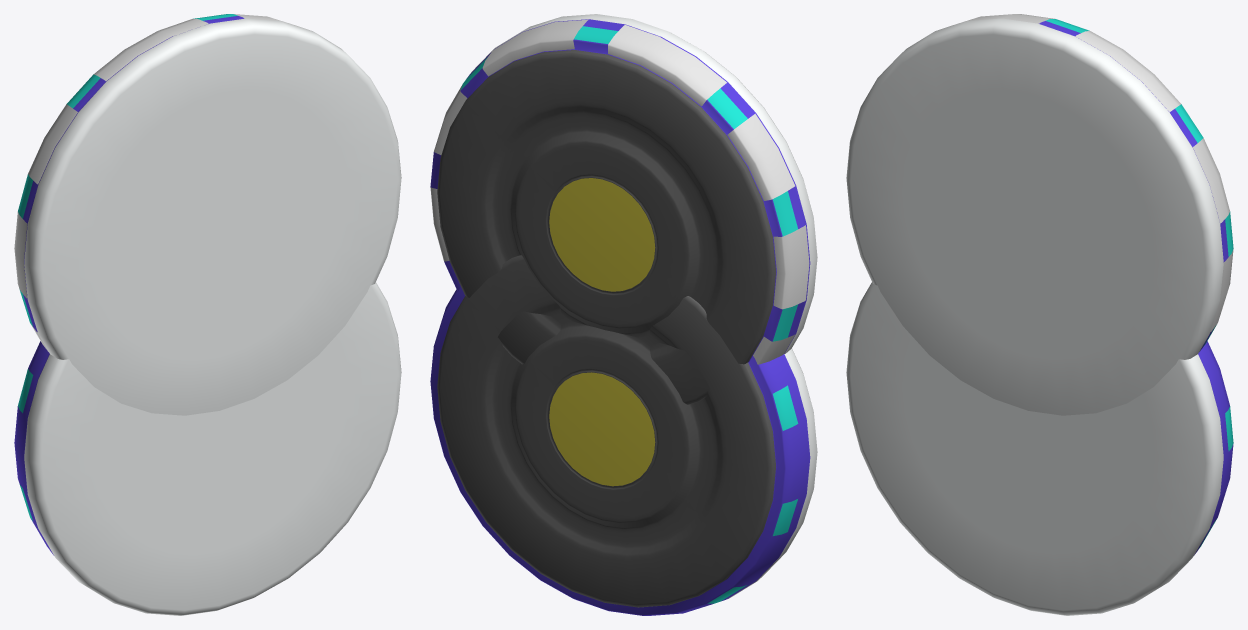
File: separate 1.fbx
3 views of the same model, side by side, from view 1: azimuth 30°, elevation 25°; view 2: azimuth 150°, elevation 25°; view 3: azimuth 330°, elevation 25° (orthographic).
Visible parts, largest first — view 1: Cylinder.001, Cylinder, Cylinder.007, Cylinder.006, Cylinder.005; view 2: Cylinder, Cylinder.001, Cylinder.007, Cylinder.006, Cylinder.005, Cylinder.008, Cylinder.004, Cylinder.009; view 3: Cylinder.001, Cylinder, Cylinder.008, Cylinder.009.
Part boxes in pixels (left/top/right/bottom): Cylinder.001: left=18, top=14, right=401, bottom=415; Cylinder: left=14, top=282, right=401, bottom=615; Cylinder.007: left=93, top=19, right=208, bottom=80; Cylinder.006: left=28, top=104, right=77, bottom=184; Cylinder.005: left=14, top=211, right=27, bottom=298; Cylinder: left=430, top=255, right=817, bottom=615; Cylinder.001: left=430, top=14, right=817, bottom=404; Cylinder.007: left=608, top=25, right=726, bottom=106; Cylinder.006: left=727, top=113, right=795, bottom=200; Cylinder.005: left=773, top=225, right=809, bottom=309; Cylinder.008: left=482, top=19, right=588, bottom=76; Cylinder.004: left=753, top=334, right=795, bottom=364; Cylinder.009: left=434, top=85, right=467, bottom=154; Cylinder.001: left=846, top=18, right=1233, bottom=415; Cylinder: left=846, top=282, right=1233, bottom=615; Cylinder.008: left=1075, top=31, right=1180, bottom=111; Cylinder.009: left=1193, top=138, right=1229, bottom=223.
Size of the model in its own units: 209 by 314 by 32.65.
